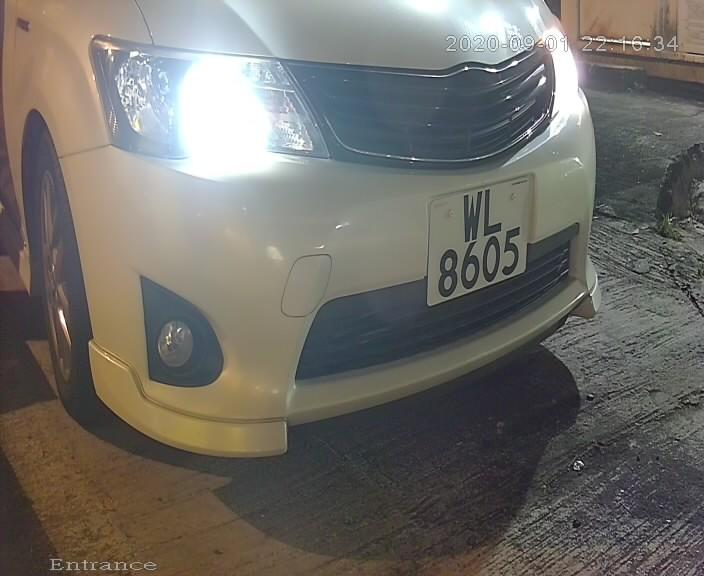License Plate: (425, 168, 532, 317)
